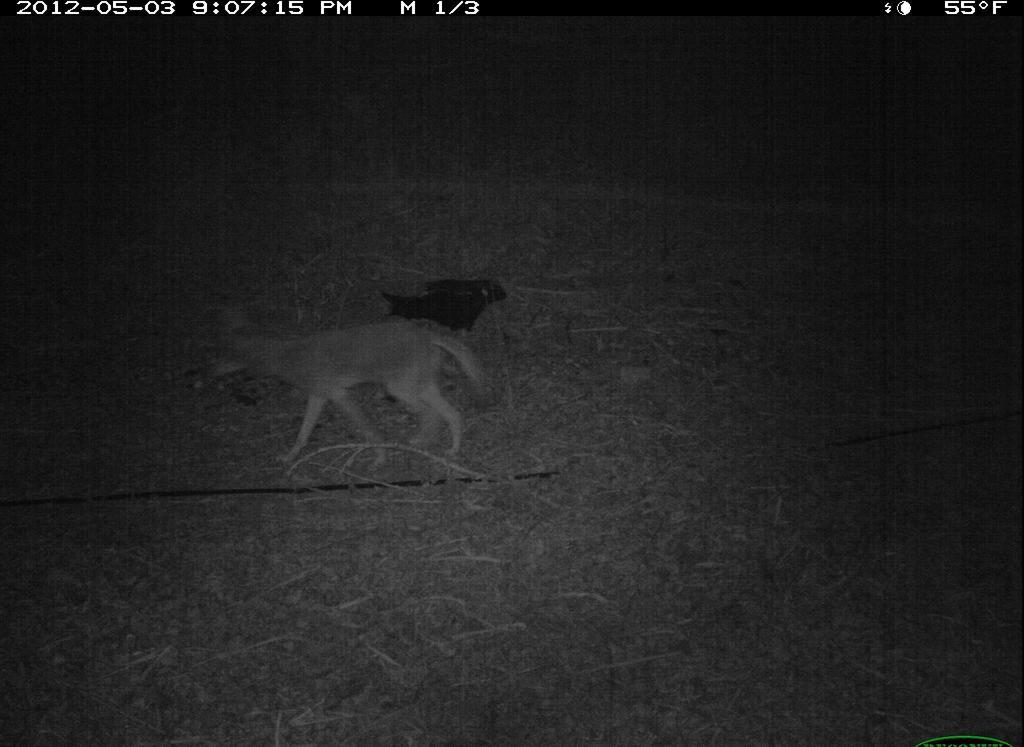coyote: (209, 310, 495, 479)
